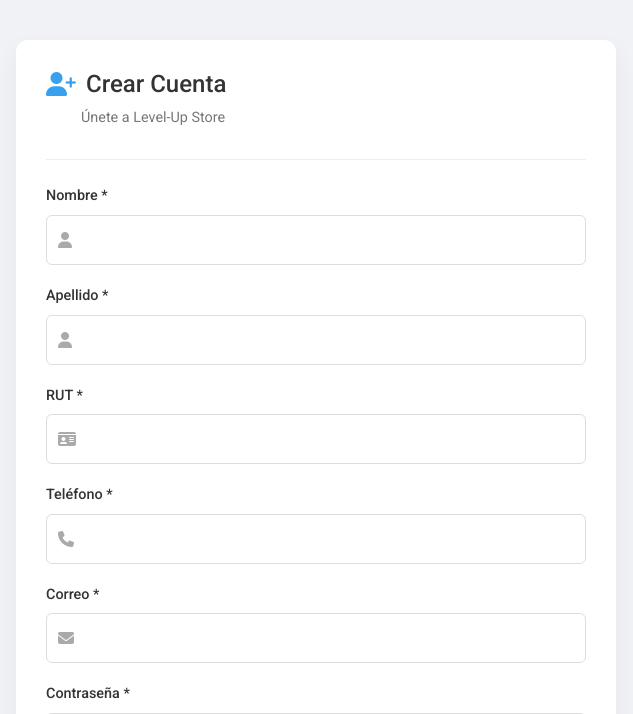
Test: Pruebas en Register.jsx › Debe mostrar error si el email no es válido
In the field named "nombre" below "Nombre *": [316, 240] box [46,215,586,265], type "Test"
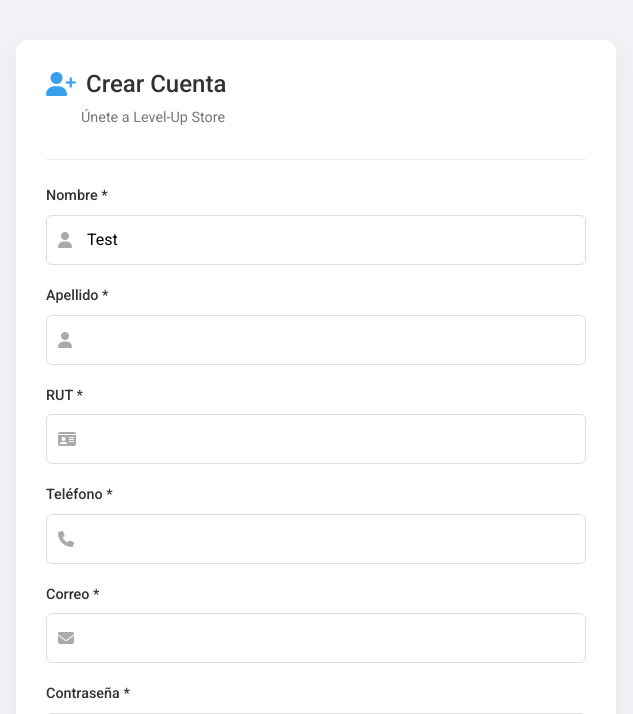
In the field named "apellido" below "Apellido *": [316, 340] box [46,315,586,365], type "User"
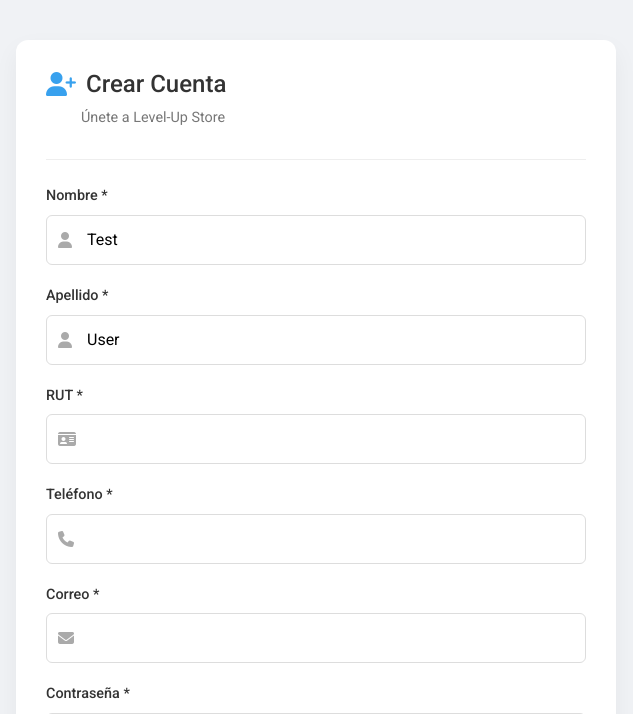
In the field named "email" below "Correo *": [316, 638] box [46,614,586,664], type "correo-malo"
(page scrolled)
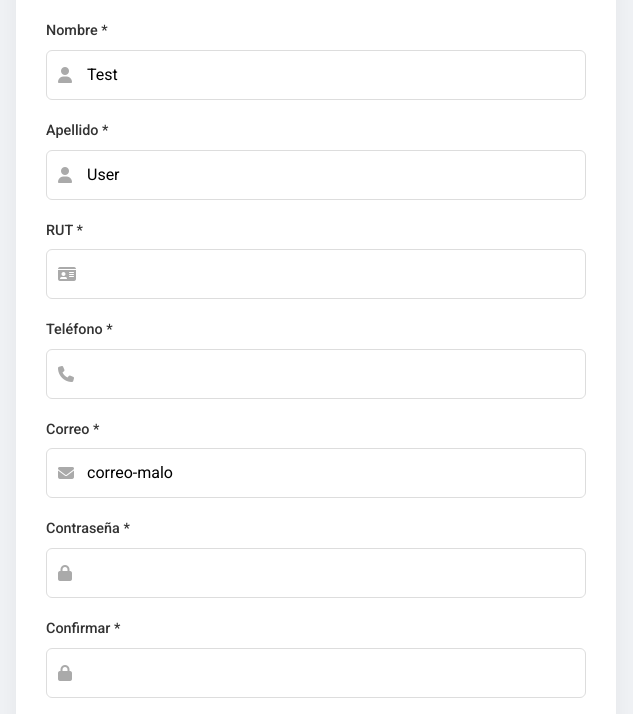
Submit the form named "Registrarse"
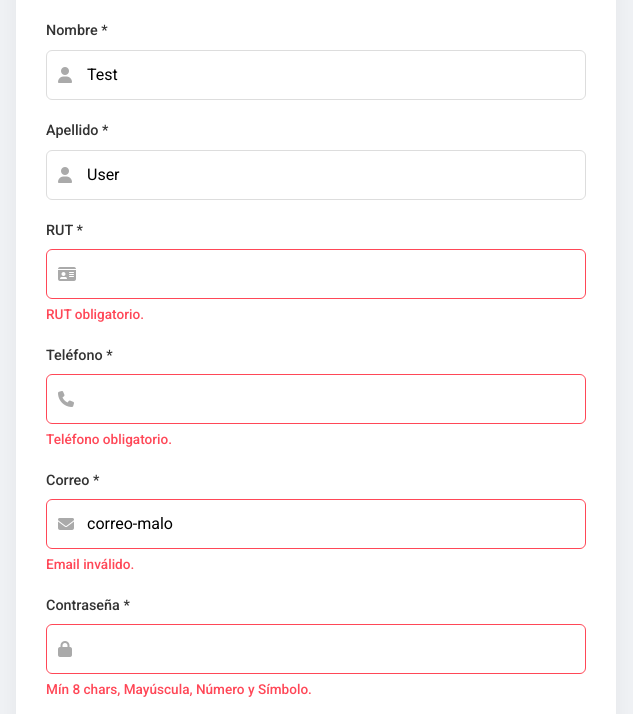
Check: the text "Email inválido." is shown, box [46,556,134,572]
